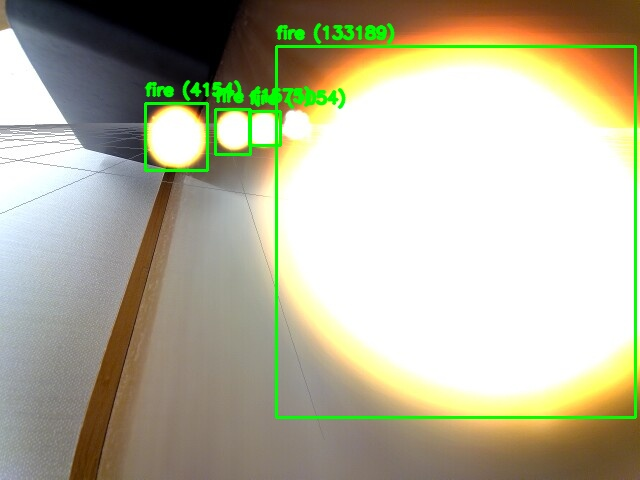fire: (276, 46, 635, 417), (145, 103, 207, 170), (215, 109, 250, 154), (249, 111, 280, 145)
